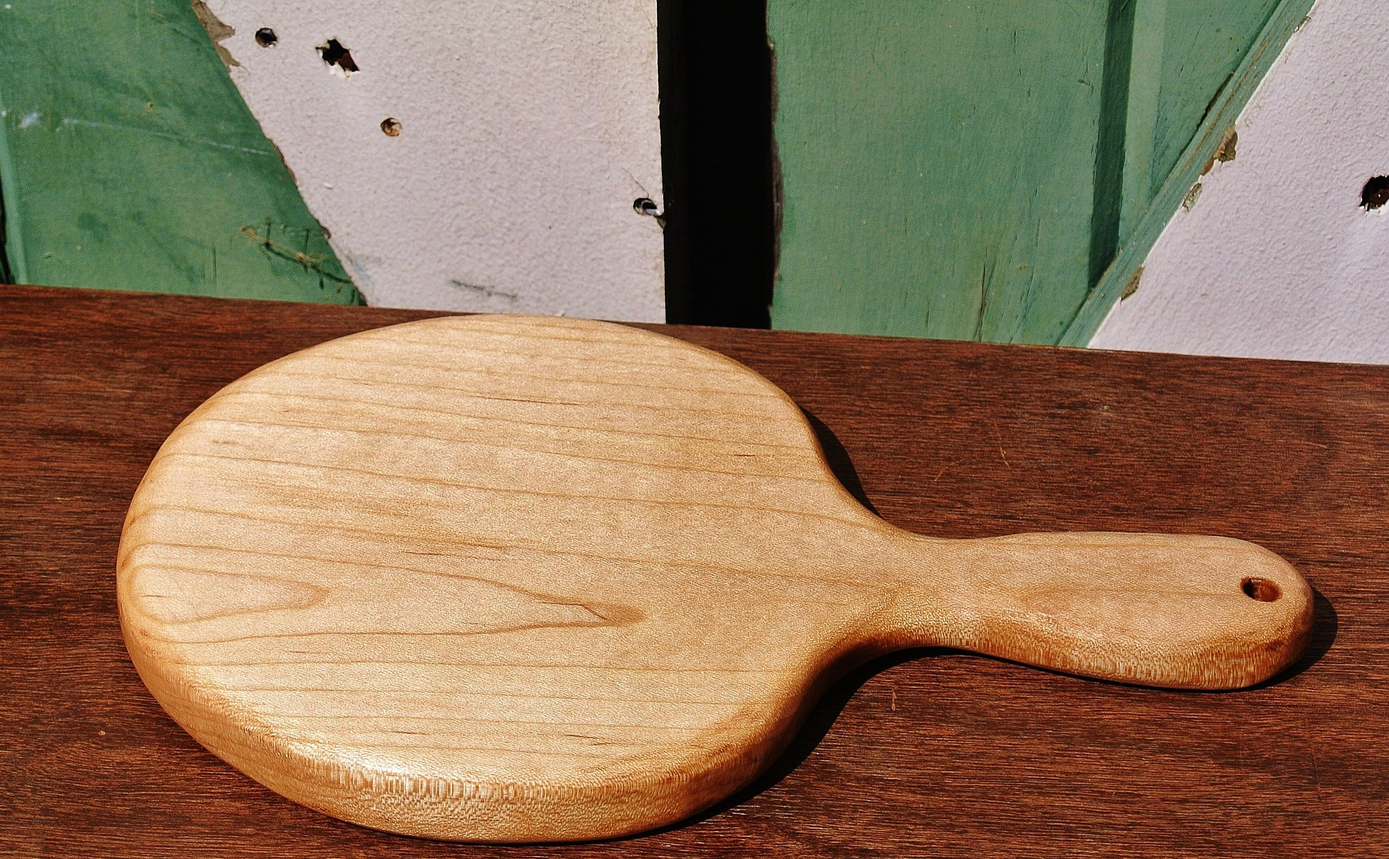gloved_hand: (99, 309, 1321, 849)
